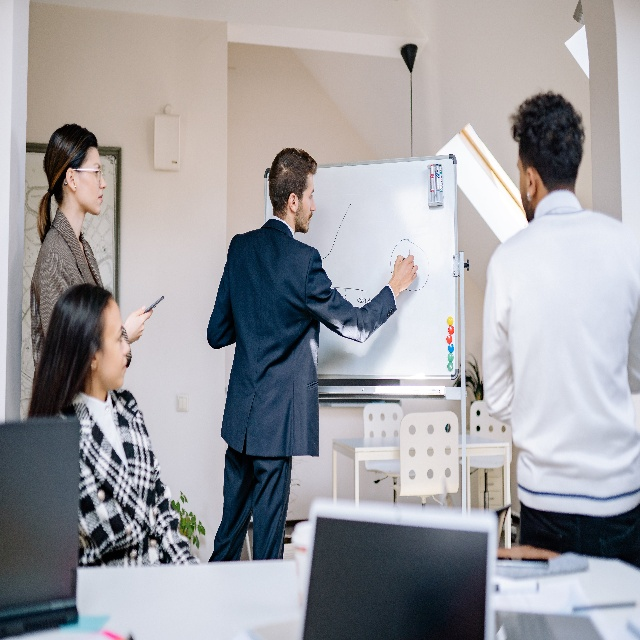Gafas: (63, 168, 102, 186)
Sin_guantes: (124, 305, 153, 343), (392, 254, 418, 292)
